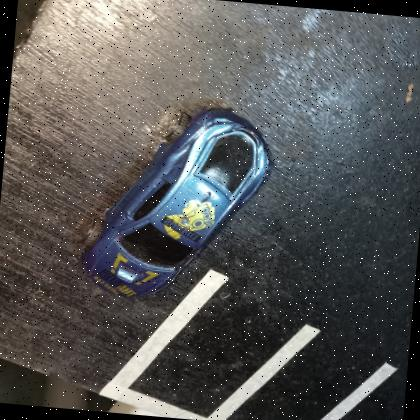Car: (82, 106, 272, 295)
